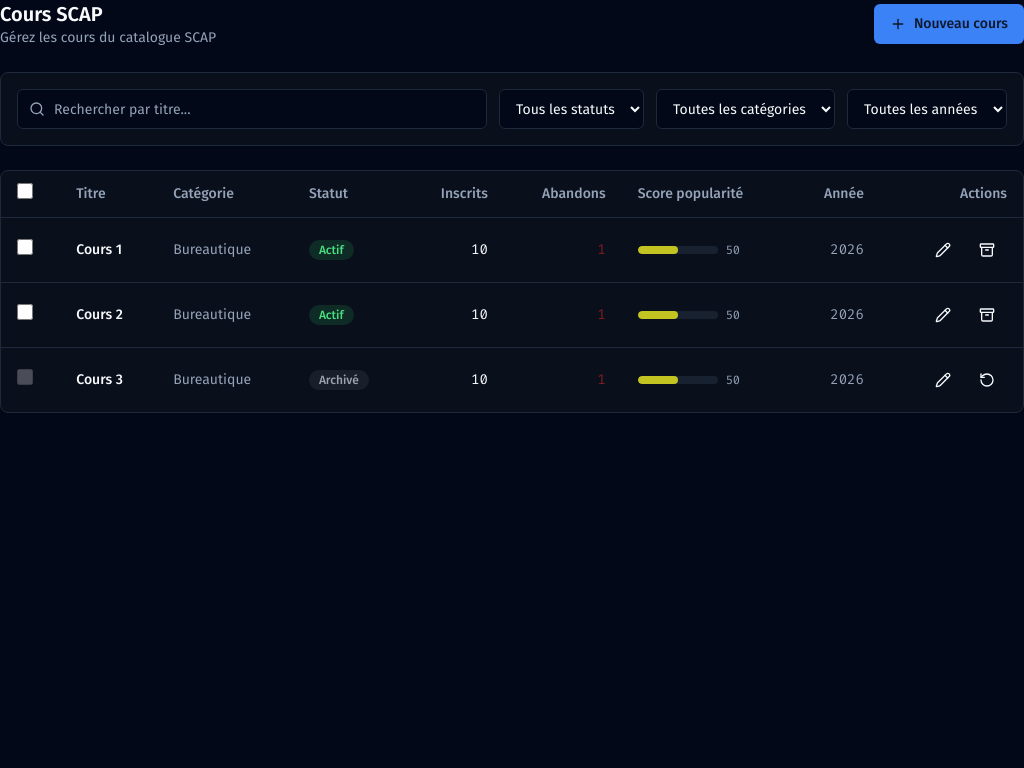
Test: Retour du serveur › résume ce qui a été fait, y compris les cas partiels
Expected: the text "Cours 1" is shown, top-left (60, 218), bottom-right (157, 282)
Click the checkbox named "Sélectionner tous les cours actifs affichés" at (25,191), box top-left (17, 183), bottom-right (33, 199)
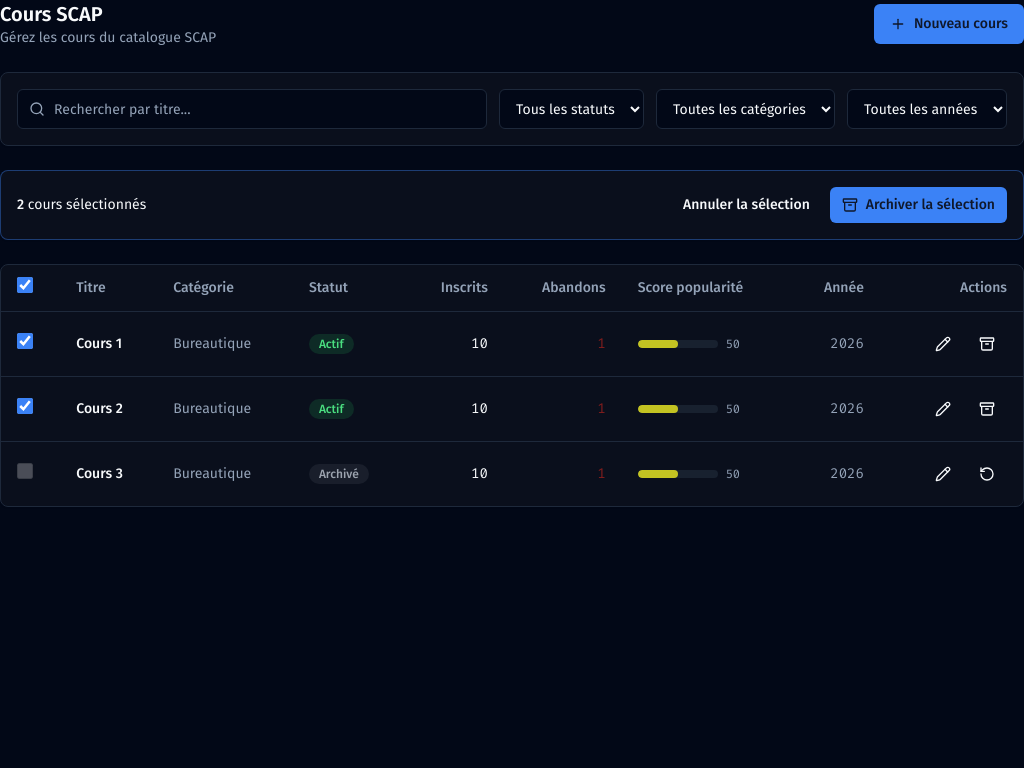
Click the button "Archiver la sélection" at (918,205), box top-left (830, 187), bottom-right (1007, 223)
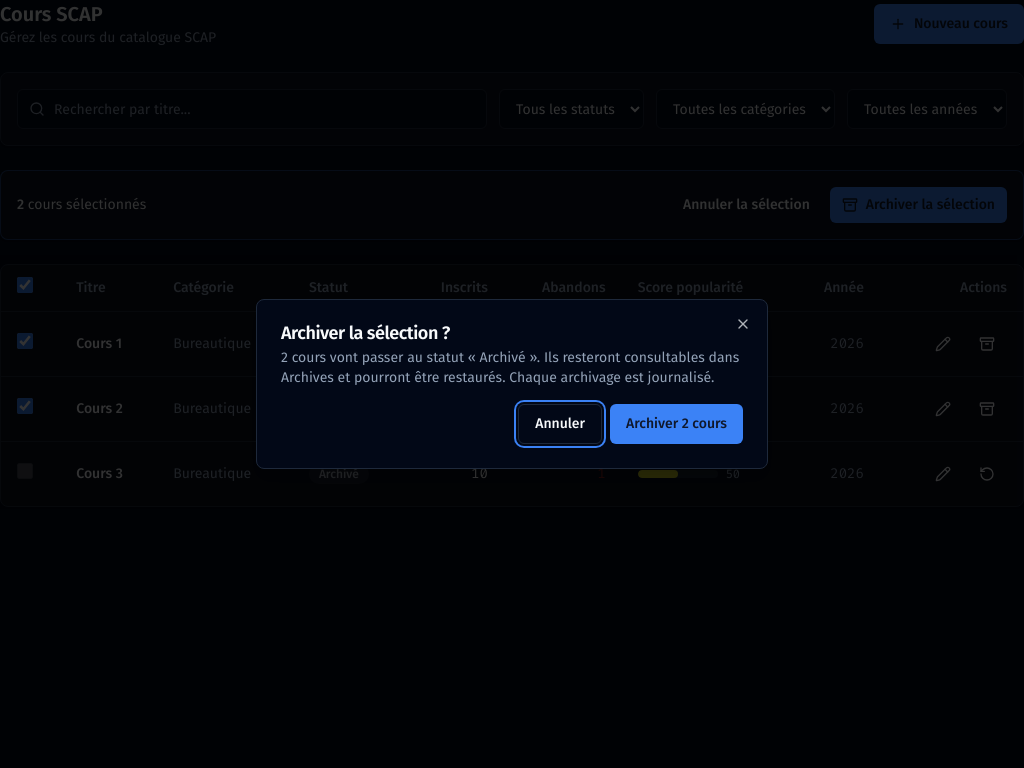
Click the button "Archiver 2 cours" at (676,424), box top-left (610, 404), bottom-right (743, 444)
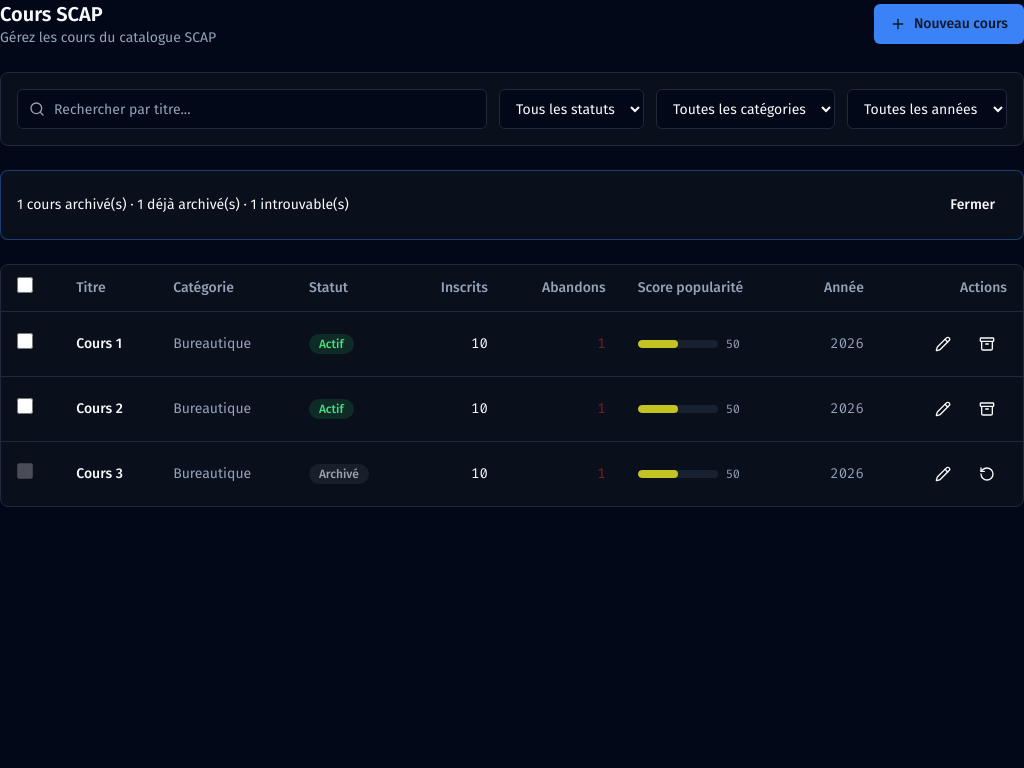
Expected: the text "1 cours archivé(s) · 1 déjà archivé(s) · 1 introuvable(s)" is shown, top-left (17, 195), bottom-right (349, 215)
